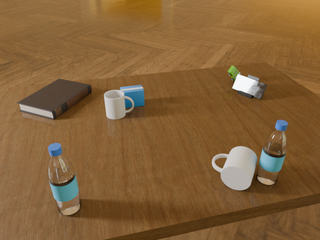book: (17, 79, 91, 120)
bottle: (48, 143, 81, 215), (256, 120, 288, 185)
box: (120, 85, 144, 108)
cup: (212, 147, 257, 190), (104, 90, 134, 119)
phone: (233, 74, 267, 99)
toy_car: (228, 66, 240, 81)
